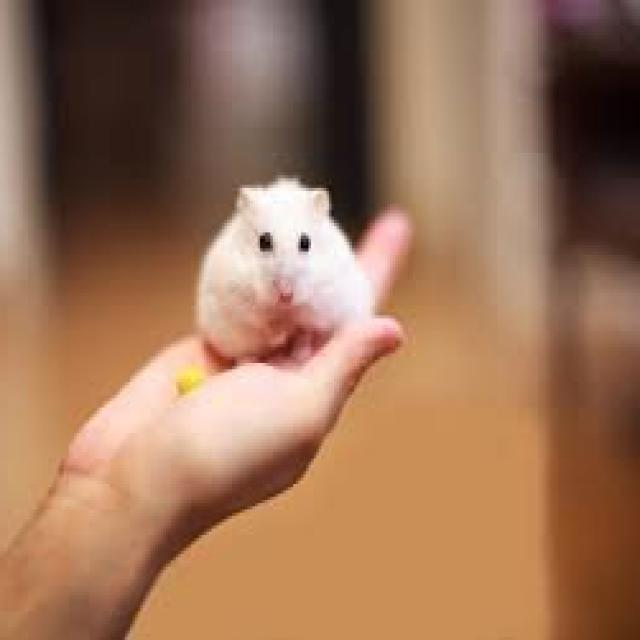hamster: (199, 178, 377, 357)
